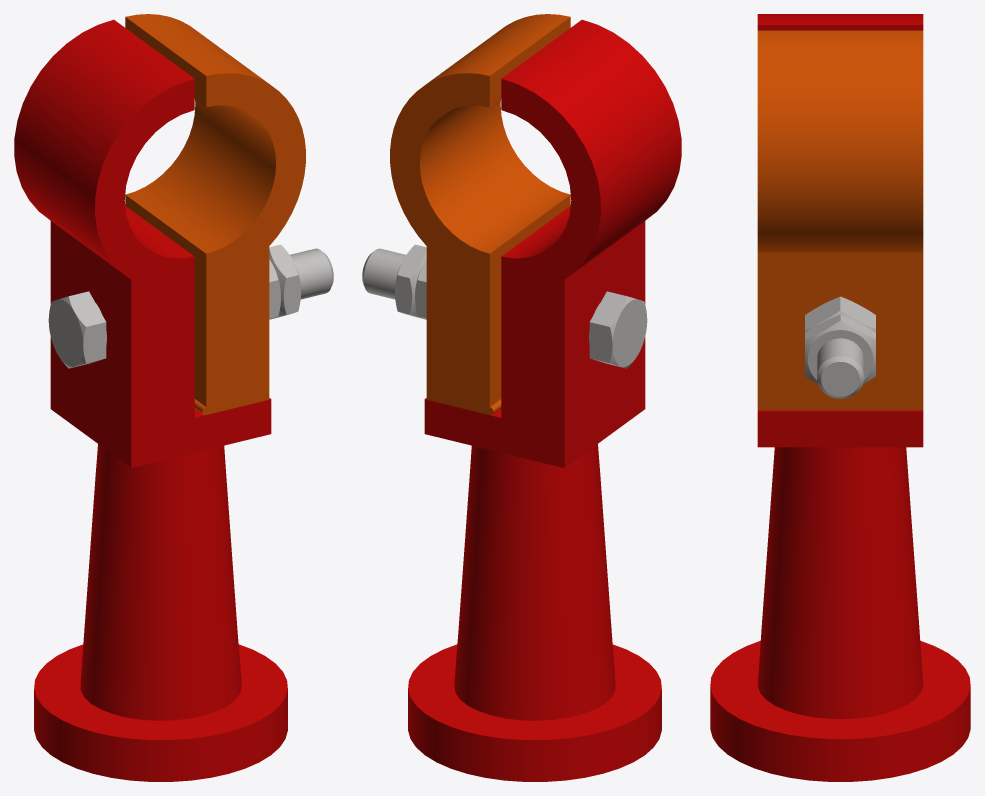
The picture shows the model from 3 angles, left to right: view 1: azimuth 30°, elevation 25°; view 2: azimuth 150°, elevation 25°; view 3: azimuth 270°, elevation 25°; orthographic projection. The views are drawn at different scales.
Parts seen in each view (by area): view 1: Solid1 (×5); view 2: Solid1 (×5); view 3: Solid1 (×5).
Part boxes in pixels (x1,y1,x2,y2): Solid1 (×5): [14, 14, 333, 781]; Solid1 (×5): [362, 14, 681, 781]; Solid1 (×5): [710, 14, 970, 781].
Size of the model in its own units: 0.082 by 0.1953 by 0.0659.
